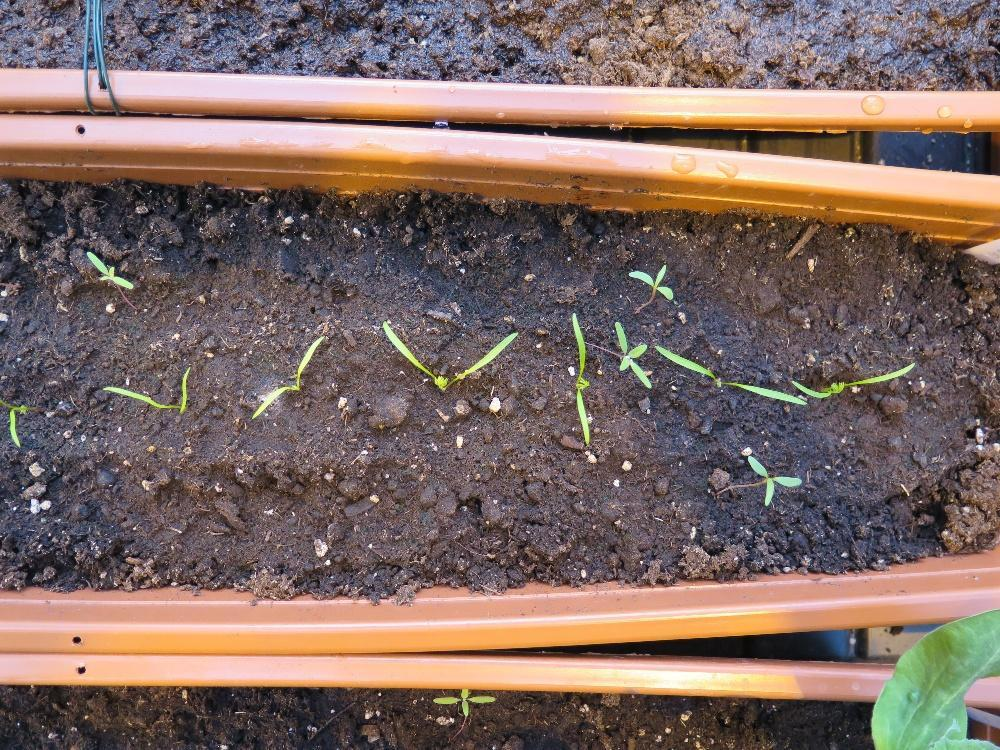crop: (380, 319, 519, 396), (249, 332, 324, 420), (100, 363, 190, 414), (570, 309, 590, 447)
weed: (746, 453, 802, 506), (613, 320, 651, 388), (429, 685, 497, 719), (83, 248, 134, 290), (625, 258, 672, 300)
